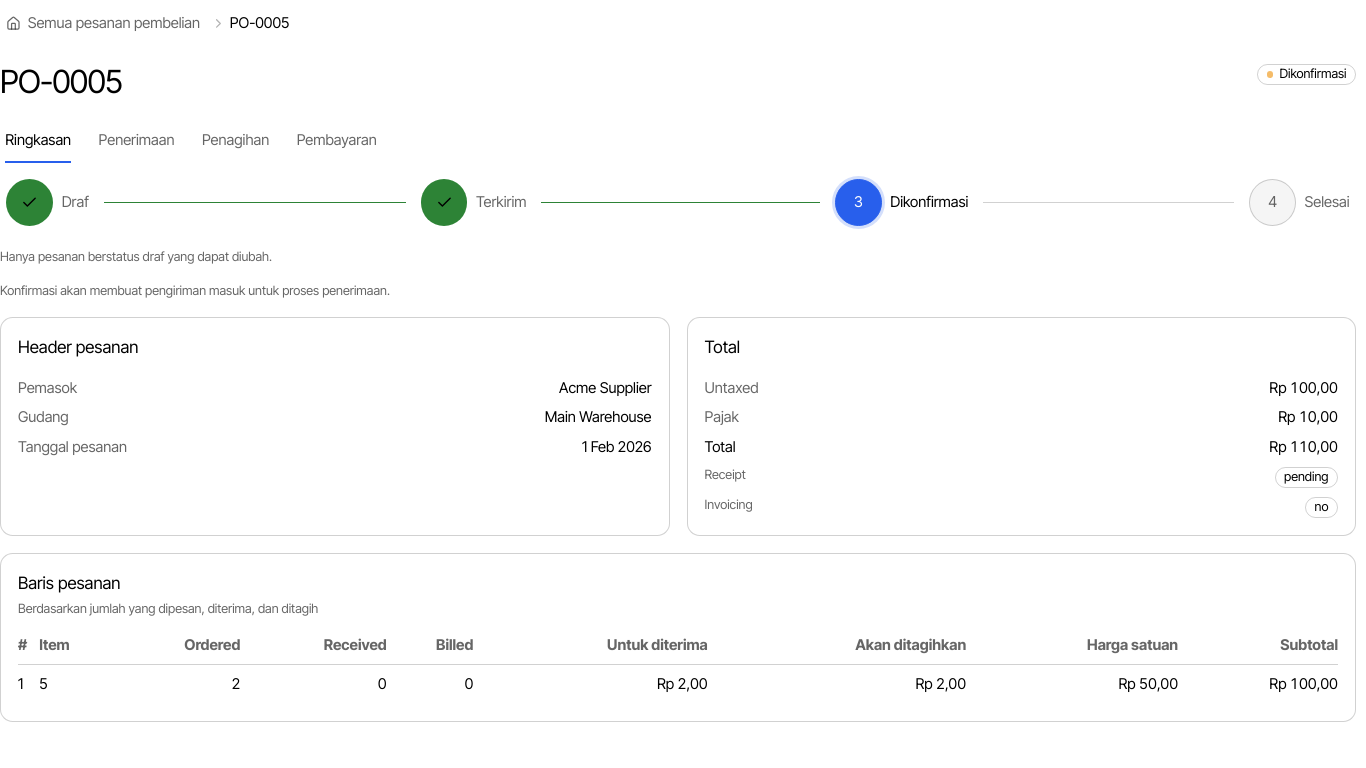
Scenario: PurchaseOrderDetail branches5 › cancels the receive dialog
The image size is (1366, 768).
Click the tab "Penerimaan": point(136, 141) [98,117,175,164]
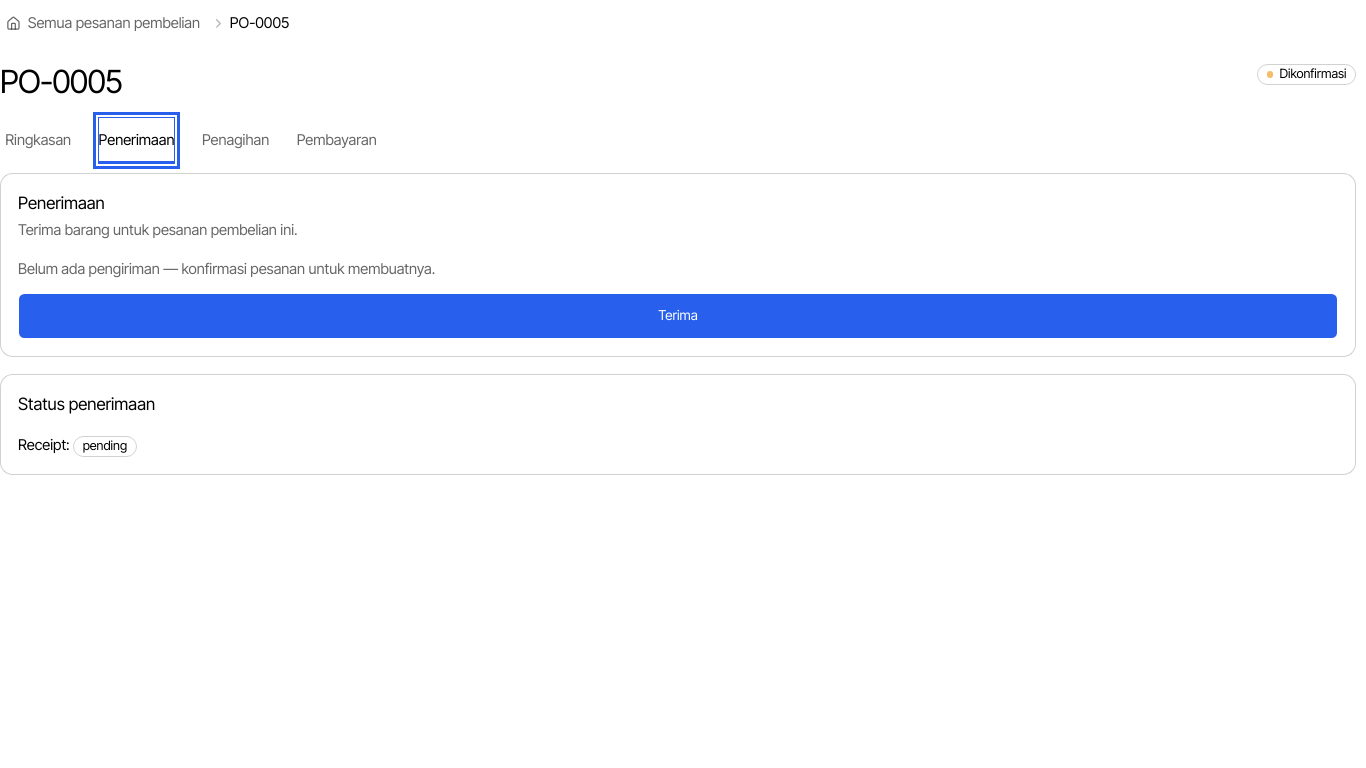
Click the button "Terima": point(678, 316) [18,293,1338,340]
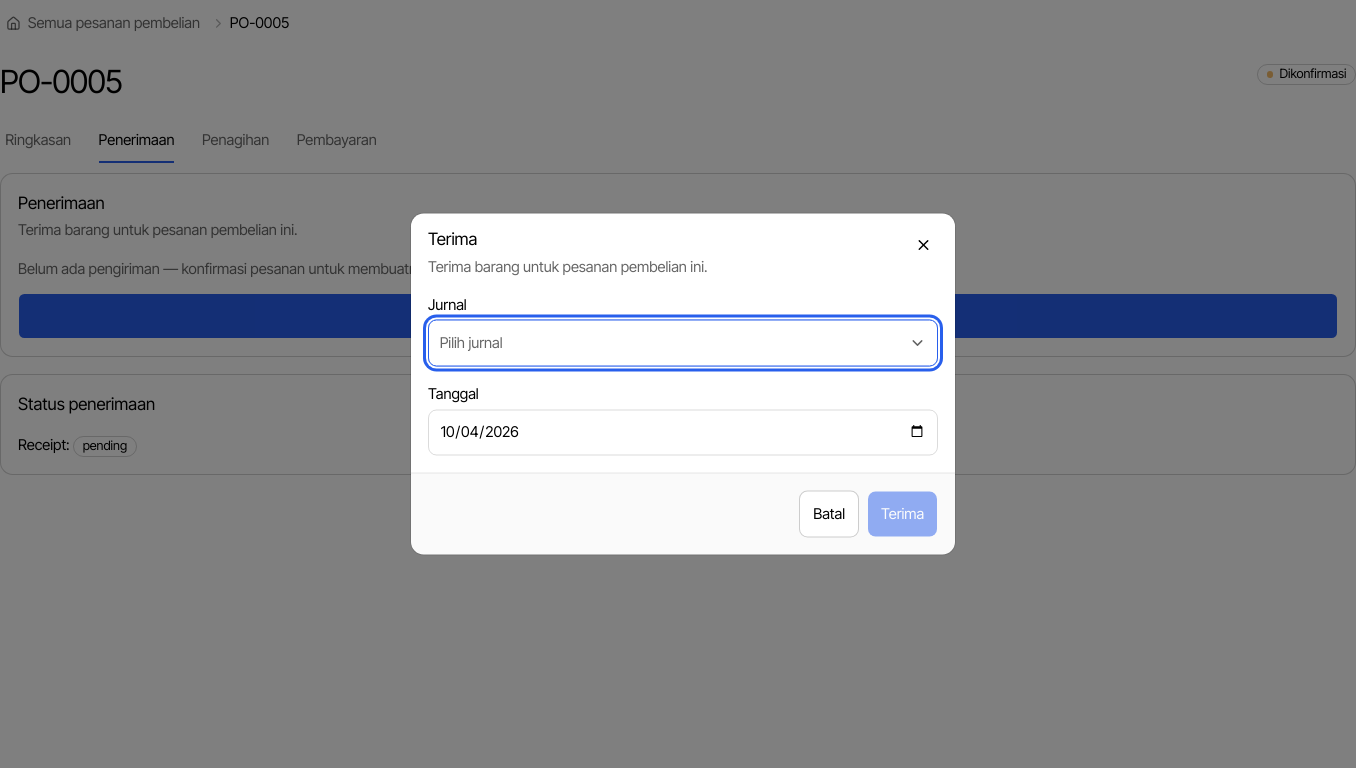
Click the button "Batal": point(829, 514) [799,491,859,538]
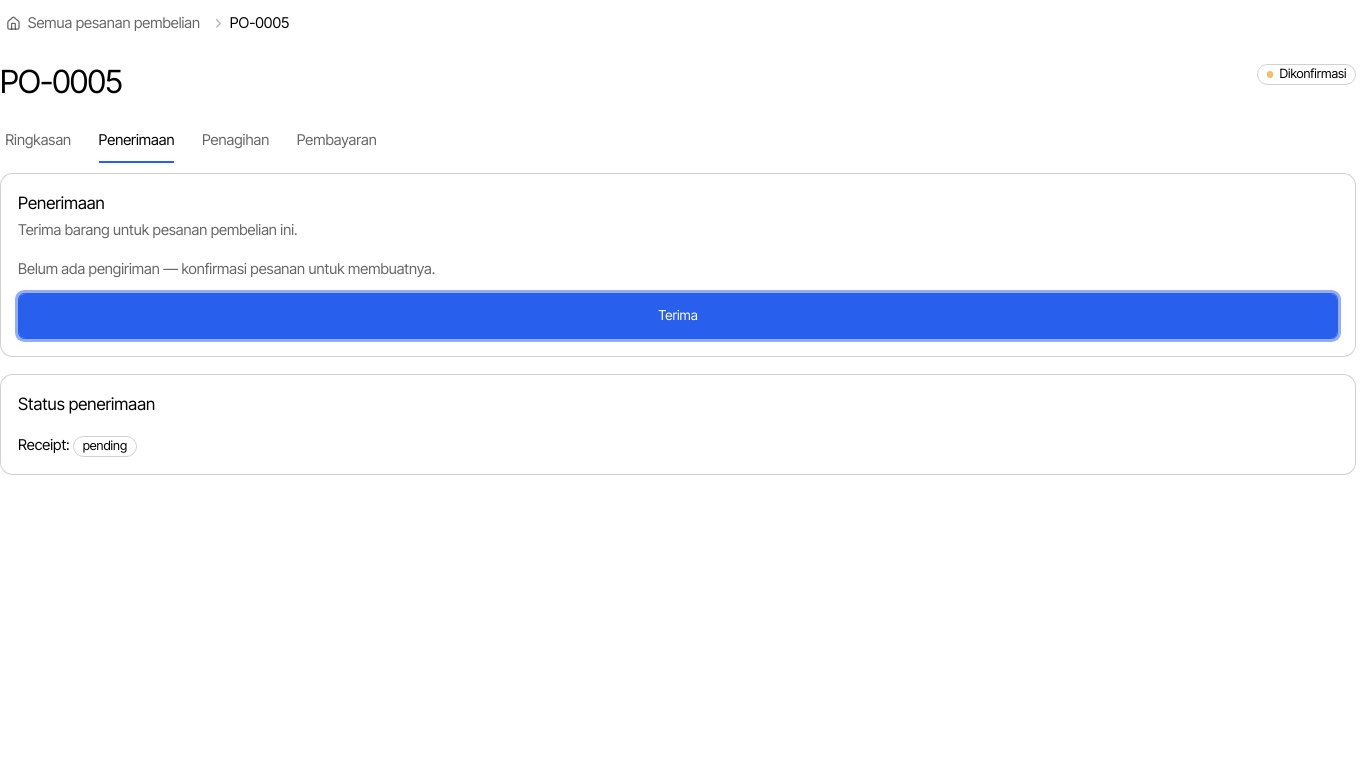
Now the dialog is gone
